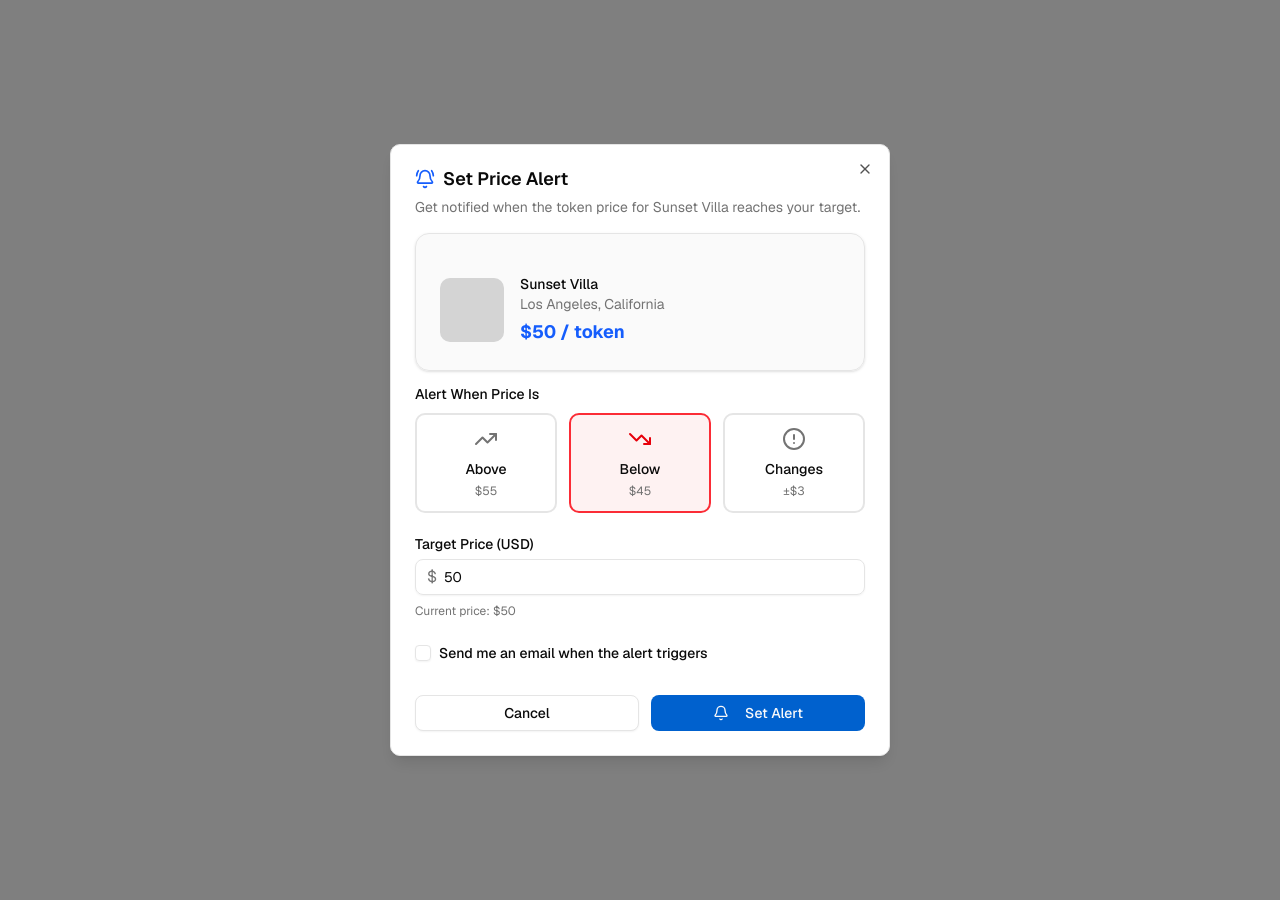
SetPriceAlertModal › should keep the submit button disabled for an invalid (empty/zero) target price
Check: the button "Set Alert" is enabled, box x1=651 y1=695 x2=865 y2=731
Clear the number field labelled "Target Price (USD)" at (640, 577), box x1=415 y1=559 x2=865 y2=595
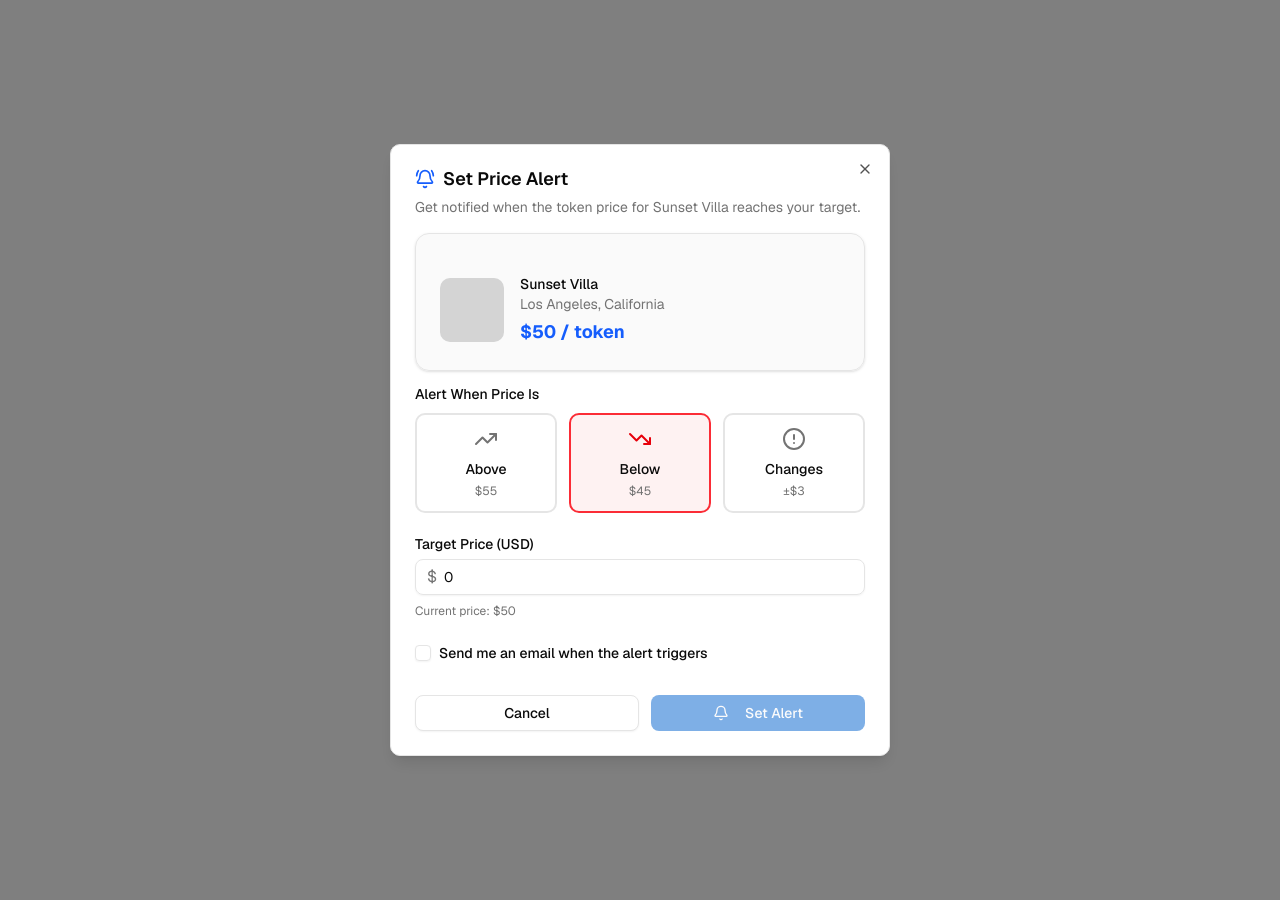
Check: the button "Set Alert" is disabled, box x1=651 y1=695 x2=865 y2=731
